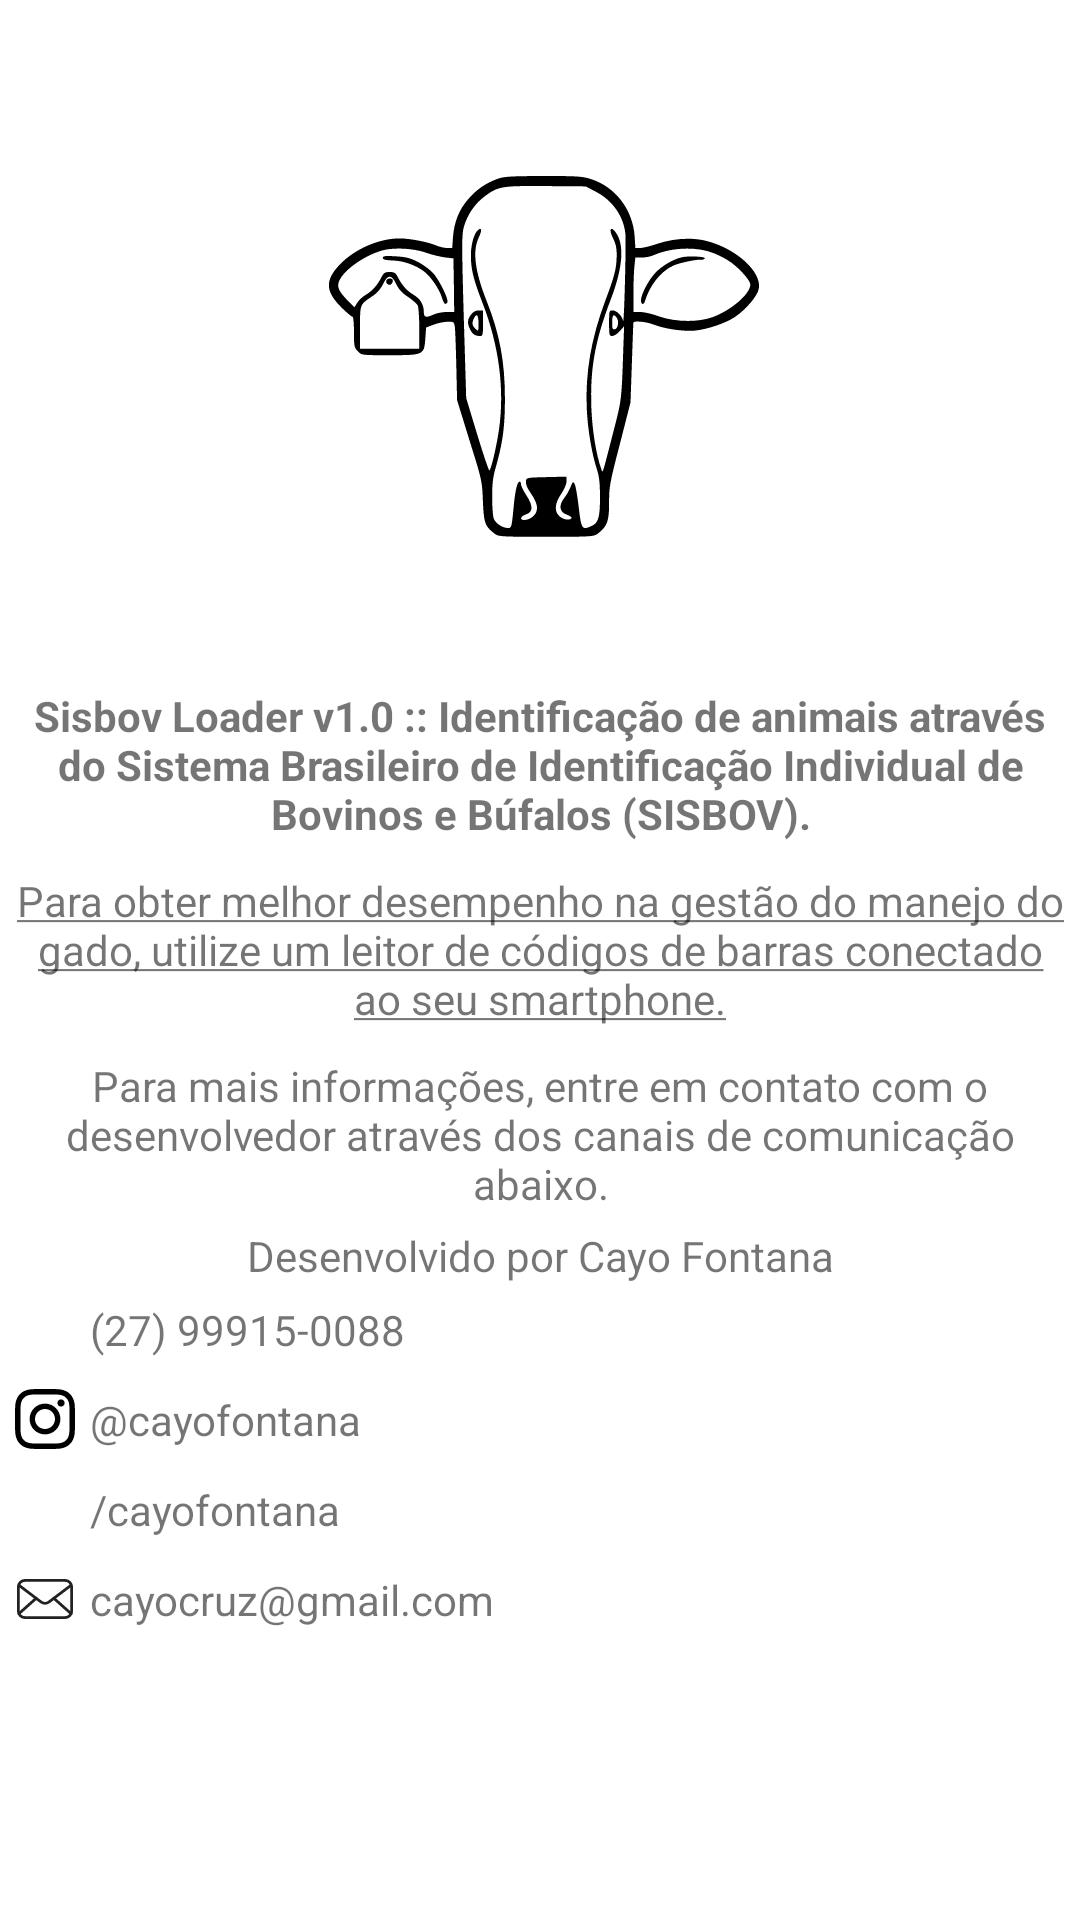

Icon bounding boxes for this 1080px×1920px phone screenshot, format [left=x1, top=y1, right=x2, bottom=y2]:
email: [left=17, top=1579, right=73, bottom=1619]
